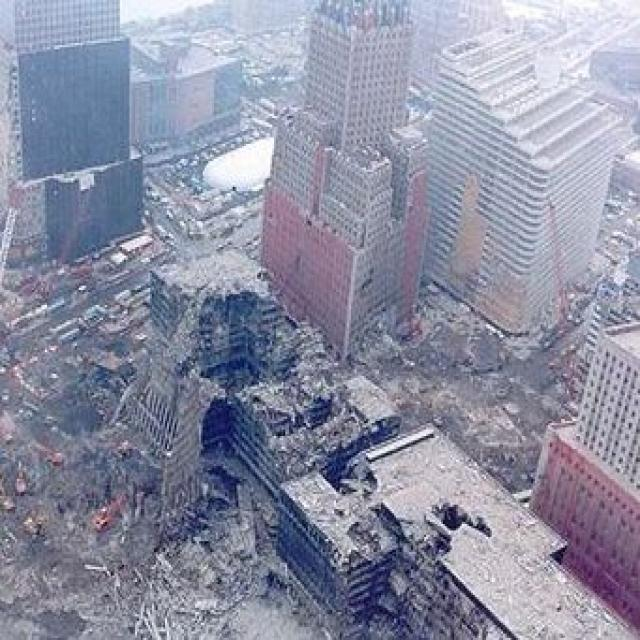collapsed_building: (150, 270, 486, 638)
